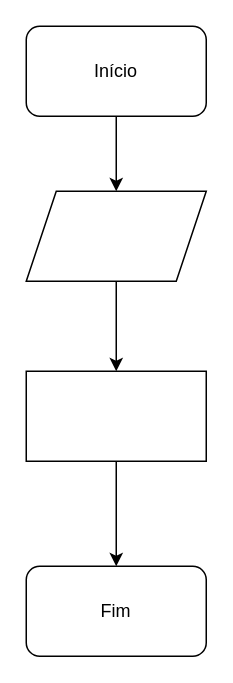
Some shapes in this 233 by 683 pixel diagram are drawn without their labels. The centre of each missing label's shape, as x and y in pixels:
"arrow function" belongs at (115,415).
"Obtenção do elemento botão e inclusão do Event Listen" belongs at (115,235).
